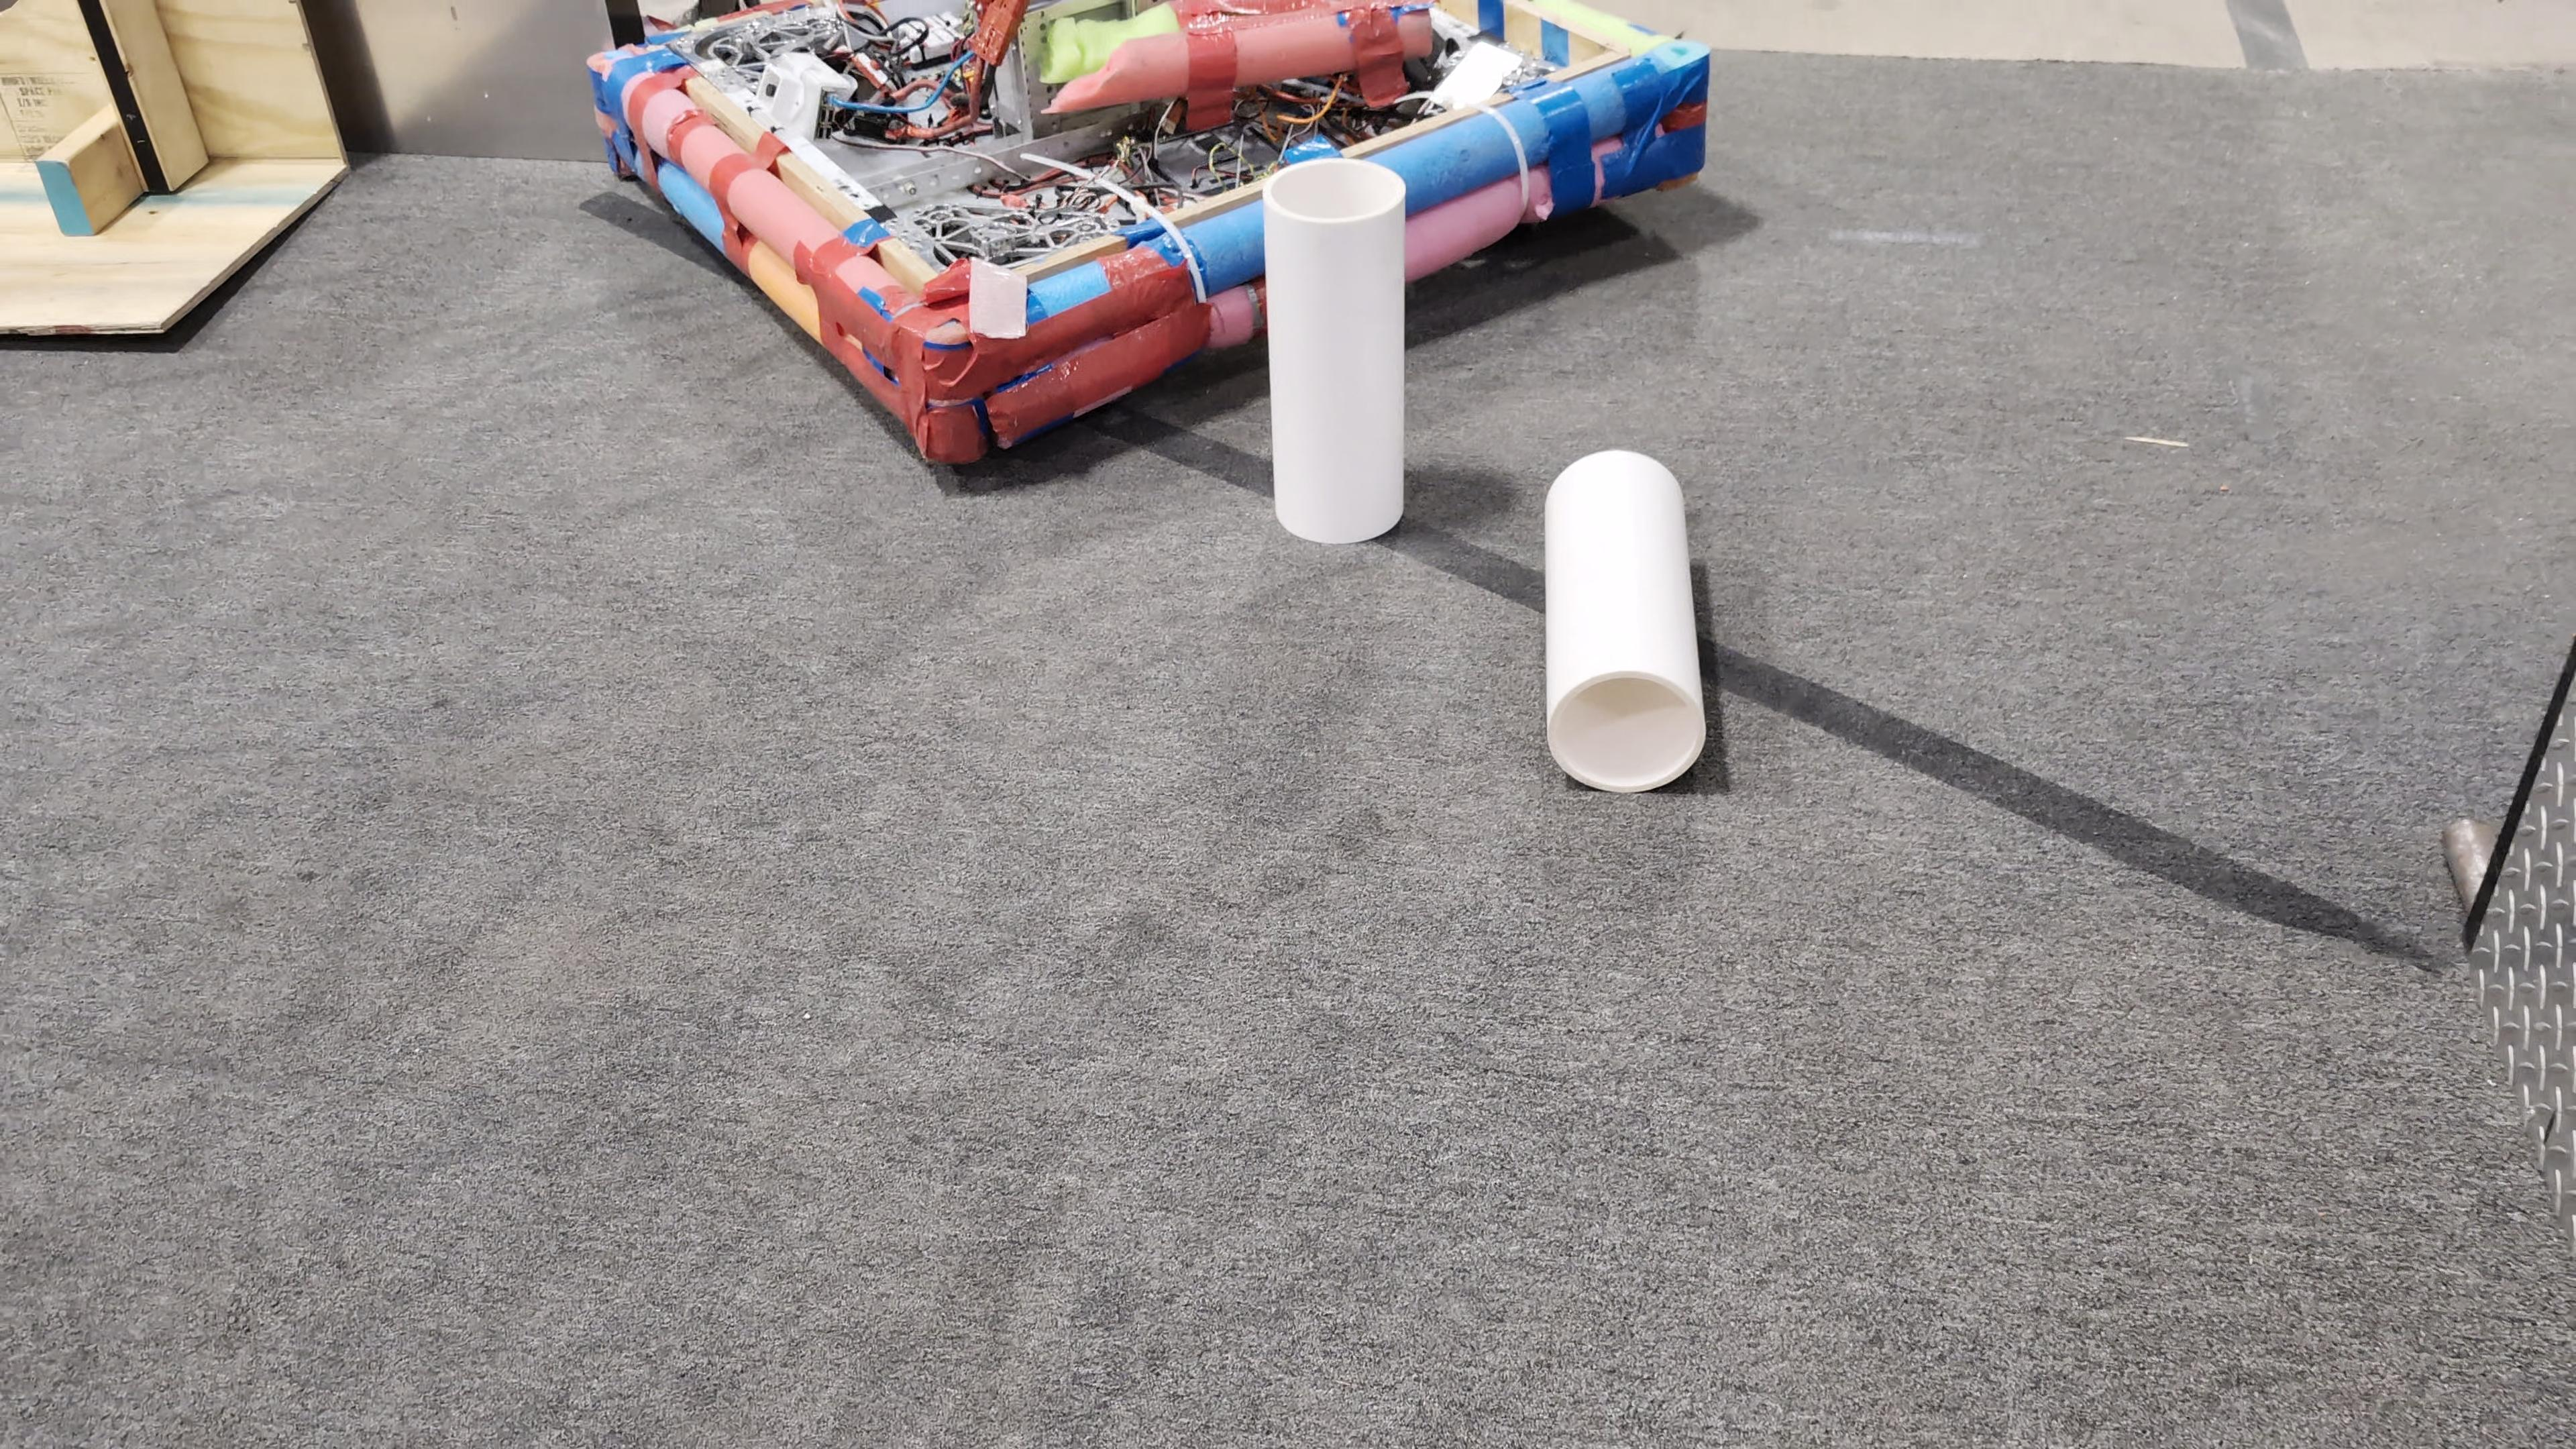coral: (1545, 451, 1706, 794), (1263, 157, 1405, 545)
